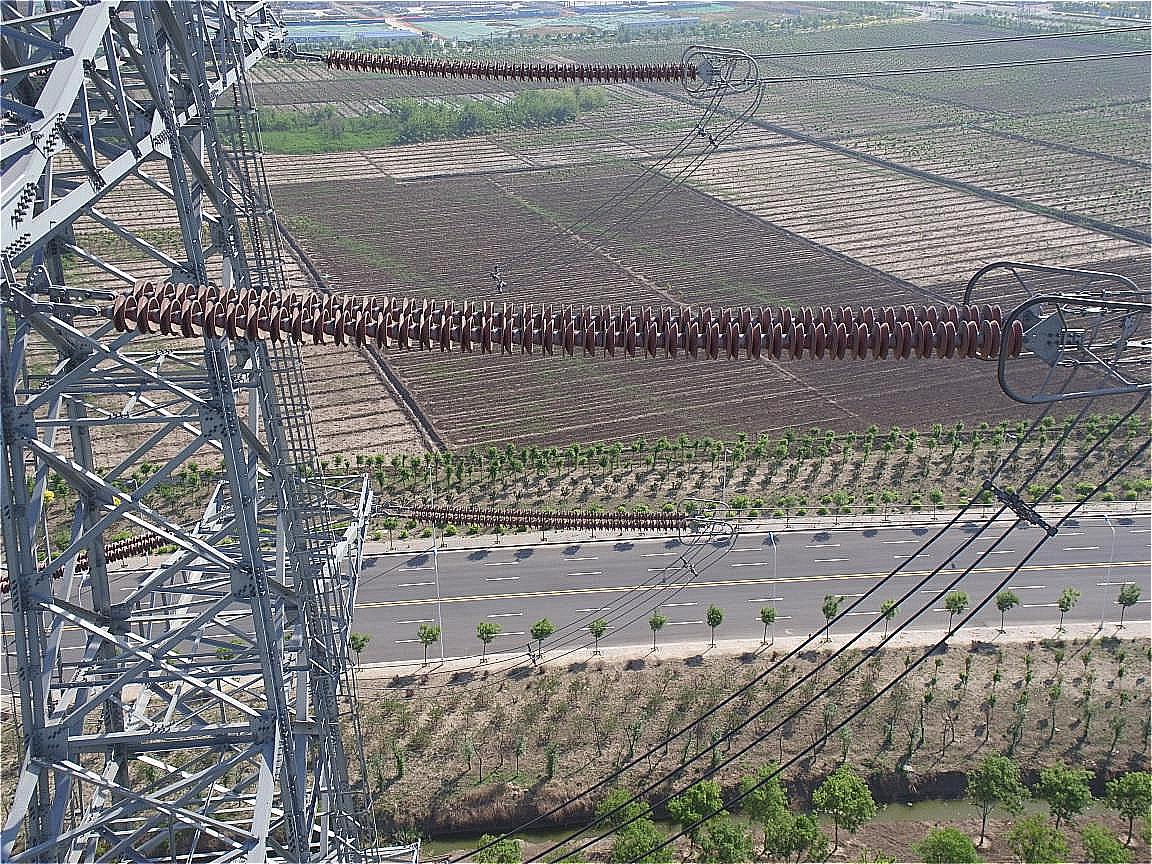insultor2: (84, 268, 1040, 387), (318, 41, 713, 94), (405, 494, 689, 539)
